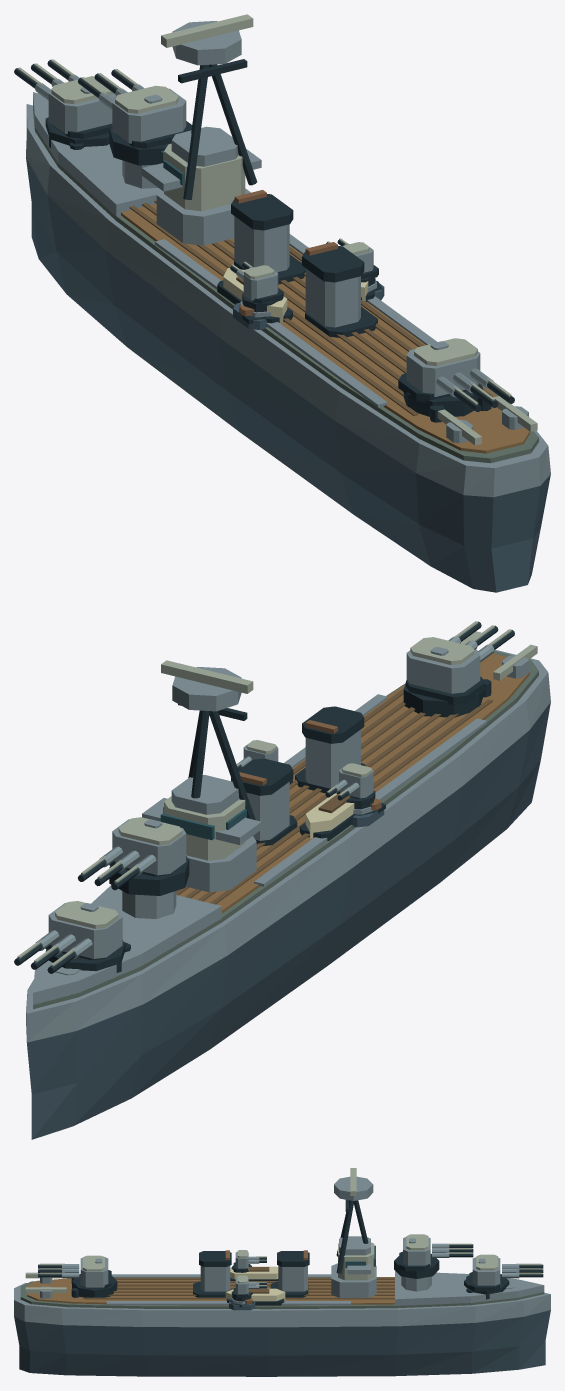
File: historic-northampton.glb
The picture shows the model from 3 angles, top to bottom: view 1: azimuth 30°, elevation 25°; view 2: azimuth 150°, elevation 25°; view 3: azimuth 270°, elevation 25°; orthographic projection. The views are drawn at different scales.
Visible parts, largest first — view 1: historic-northampton-historic-northampton-geometry, historic-northampton-part_bridge.092-geometry, historic-northampton-turret_main_1.059-geometry, historic-northampton-turret_main_2.052-geometry, historic-northampton-historic_funnel_1.044-geometry, historic-northampton-turret_main_0.063-geometry, historic-northampton-historic_funnel_0.090-geometry, historic-northampton-turret_aa_aa-port.094-geometry, historic-northampton-turret_aa_aa-starboard.090-geometry; view 2: historic-northampton-historic-northampton-geometry, historic-northampton-part_bridge.092-geometry, historic-northampton-turret_main_2.052-geometry, historic-northampton-turret_main_1.059-geometry, historic-northampton-turret_main_0.063-geometry, historic-northampton-historic_funnel_1.044-geometry, historic-northampton-historic_funnel_0.090-geometry, historic-northampton-turret_aa_aa-port.094-geometry, historic-northampton-turret_aa_aa-starboard.090-geometry; view 3: historic-northampton-historic-northampton-geometry, historic-northampton-part_bridge.092-geometry, historic-northampton-turret_main_1.059-geometry, historic-northampton-turret_main_2.052-geometry, historic-northampton-turret_main_0.063-geometry, historic-northampton-historic_funnel_1.044-geometry, historic-northampton-historic_funnel_0.090-geometry, historic-northampton-turret_aa_aa-starboard.090-geometry, historic-northampton-turret_aa_aa-port.094-geometry.
Part boxes in pixels (x1,y1,x2,y2): historic-northampton-historic-northampton-geometry: (26,92,550,592); historic-northampton-part_bridge.092-geometry: (142,14,261,245); historic-northampton-turret_main_1.059-geometry: (78,69,192,165); historic-northampton-turret_main_2.052-geometry: (398,338,514,416); historic-northampton-historic_funnel_1.044-geometry: (302,242,377,337); historic-northampton-turret_main_0.063-geometry: (14,59,115,147); historic-northampton-historic_funnel_0.090-geometry: (231,190,305,284); historic-northampton-turret_aa_aa-port.094-geometry: (230,261,283,312); historic-northampton-turret_aa_aa-starboard.090-geometry: (326,238,378,286); historic-northampton-historic-northampton-geometry: (26,631,550,1139); historic-northampton-part_bridge.092-geometry: (142,660,261,892); historic-northampton-turret_main_2.052-geometry: (403,621,514,717); historic-northampton-turret_main_1.059-geometry: (78,817,189,895); historic-northampton-turret_main_0.063-geometry: (14,901,125,973); historic-northampton-historic_funnel_1.044-geometry: (295,706,365,793); historic-northampton-historic_funnel_0.090-geometry: (231,758,297,846); historic-northampton-turret_aa_aa-port.094-geometry: (325,763,375,809); historic-northampton-turret_aa_aa-starboard.090-geometry: (236,740,278,769); historic-northampton-historic-northampton-geometry: (14,1266,550,1376); historic-northampton-part_bridge.092-geometry: (331,1168,376,1297); historic-northampton-turret_main_1.059-geometry: (394,1234,473,1278); historic-northampton-turret_main_2.052-geometry: (38,1255,117,1297); historic-northampton-turret_main_0.063-geometry: (464,1254,543,1299); historic-northampton-historic_funnel_1.044-geometry: (193,1250,231,1297); historic-northampton-historic_funnel_0.090-geometry: (270,1250,309,1297); historic-northampton-turret_aa_aa-starboard.090-geometry: (231,1275,266,1301); historic-northampton-turret_aa_aa-port.094-geometry: (231,1250,266,1272).
Size of the model in its own units: 0.702 by 1.65 by 4.32.
